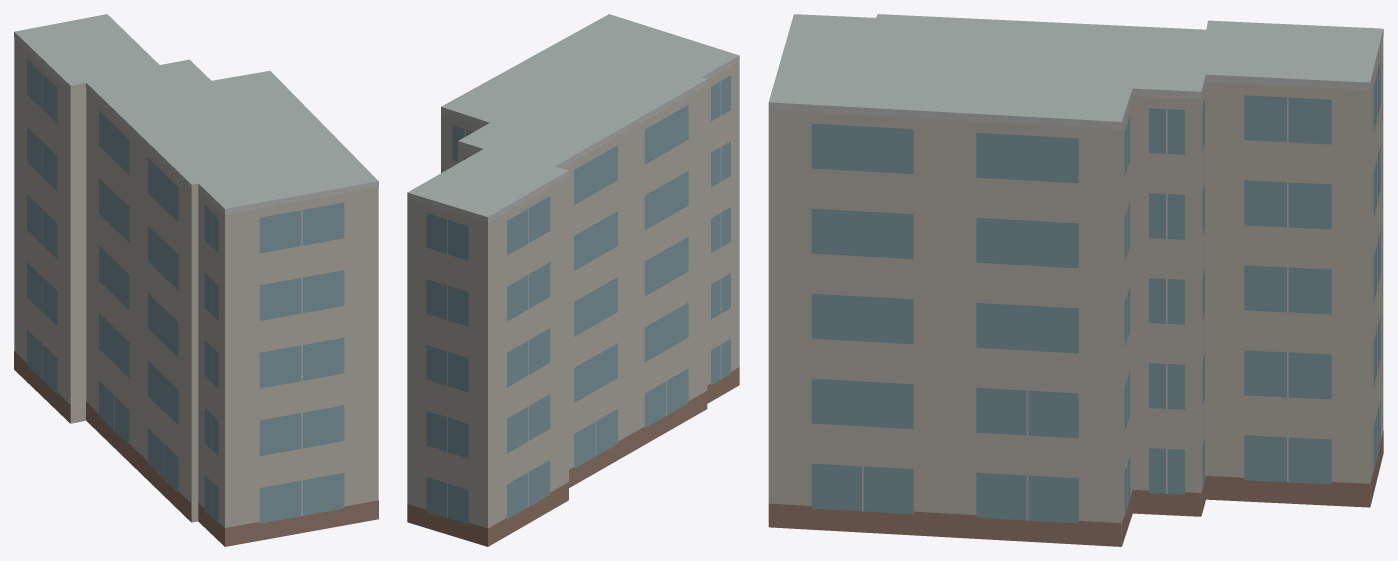
The model's file is survey-upis-32792048.glb.
3 renders of one model, left to right at view 1: azimuth 30°, elevation 25°; view 2: azimuth 150°, elevation 25°; view 3: azimuth 270°, elevation 25°, orthographic. The views are drawn at different scales.
Parts seen in each view (by area): view 1: survey-upis-32792048.tmp; view 2: survey-upis-32792048.tmp; view 3: survey-upis-32792048.tmp.
Part boxes in pixels (x1,y1,x2,y2): survey-upis-32792048.tmp: (14, 14, 378, 546); survey-upis-32792048.tmp: (407, 14, 739, 546); survey-upis-32792048.tmp: (768, 14, 1383, 546).
Size of the model in its own units: 7.58 by 13.9 by 18.24.
